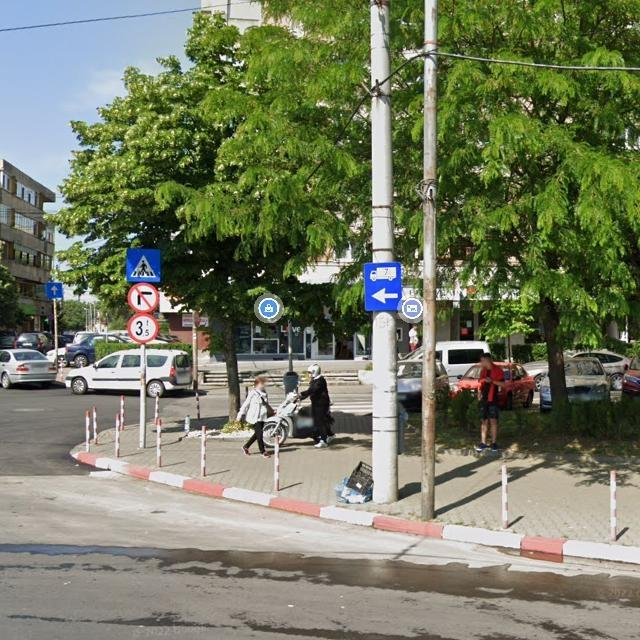info_crosswalk: (126, 248, 161, 282)
